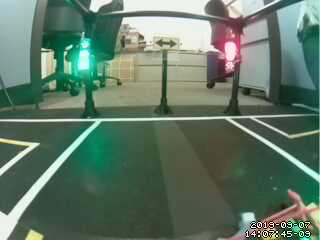Left_Right_sign: (149, 32, 184, 51)
Traffic_light_green: (75, 38, 91, 79)
Traffic_light_red: (220, 37, 240, 78)
